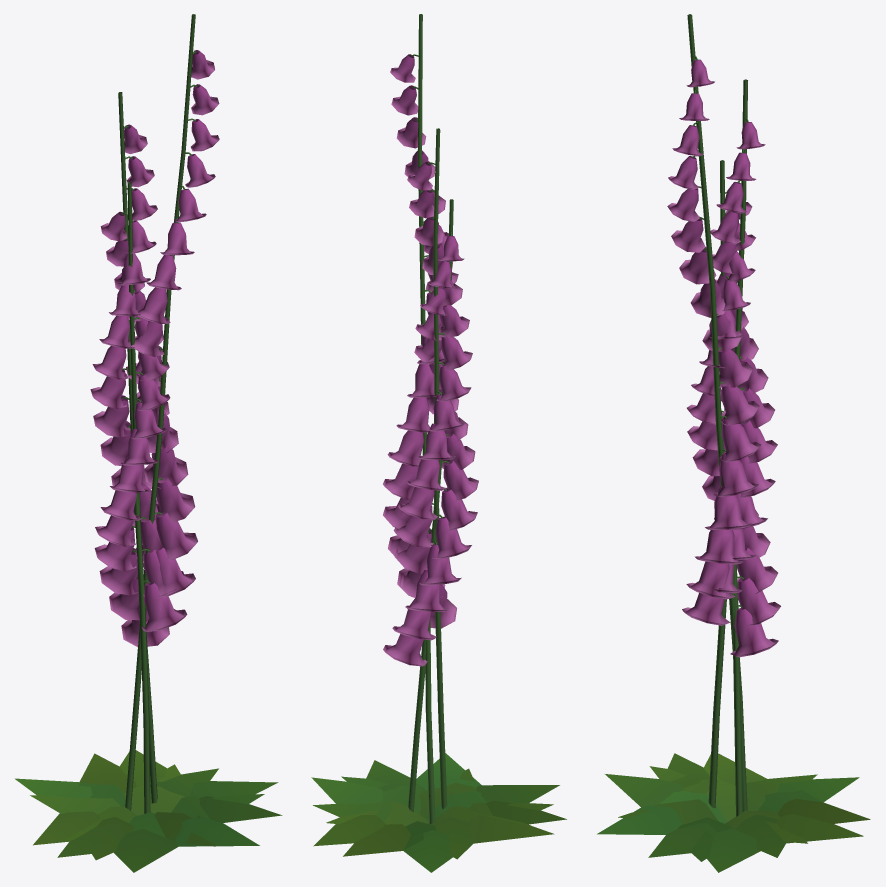
File: flower-foxglove-b.lod0.glb
3 views of the same model, side by side, from view 1: azimuth 30°, elevation 25°; view 2: azimuth 150°, elevation 25°; view 3: azimuth 270°, elevation 25° (orthographic). The views are drawn at different scales.
Visible parts, largest first — view 1: flower-foxglove-b.lod0; view 2: flower-foxglove-b.lod0; view 3: flower-foxglove-b.lod0.
Boxes of the visible parts, <box> form: flower-foxglove-b.lod0: <box>15,14,282,872</box>; flower-foxglove-b.lod0: <box>311,14,566,872</box>; flower-foxglove-b.lod0: <box>597,14,870,872</box>.
Bounding box in the file's own units: 0.355 × 1.13 × 0.3366.
